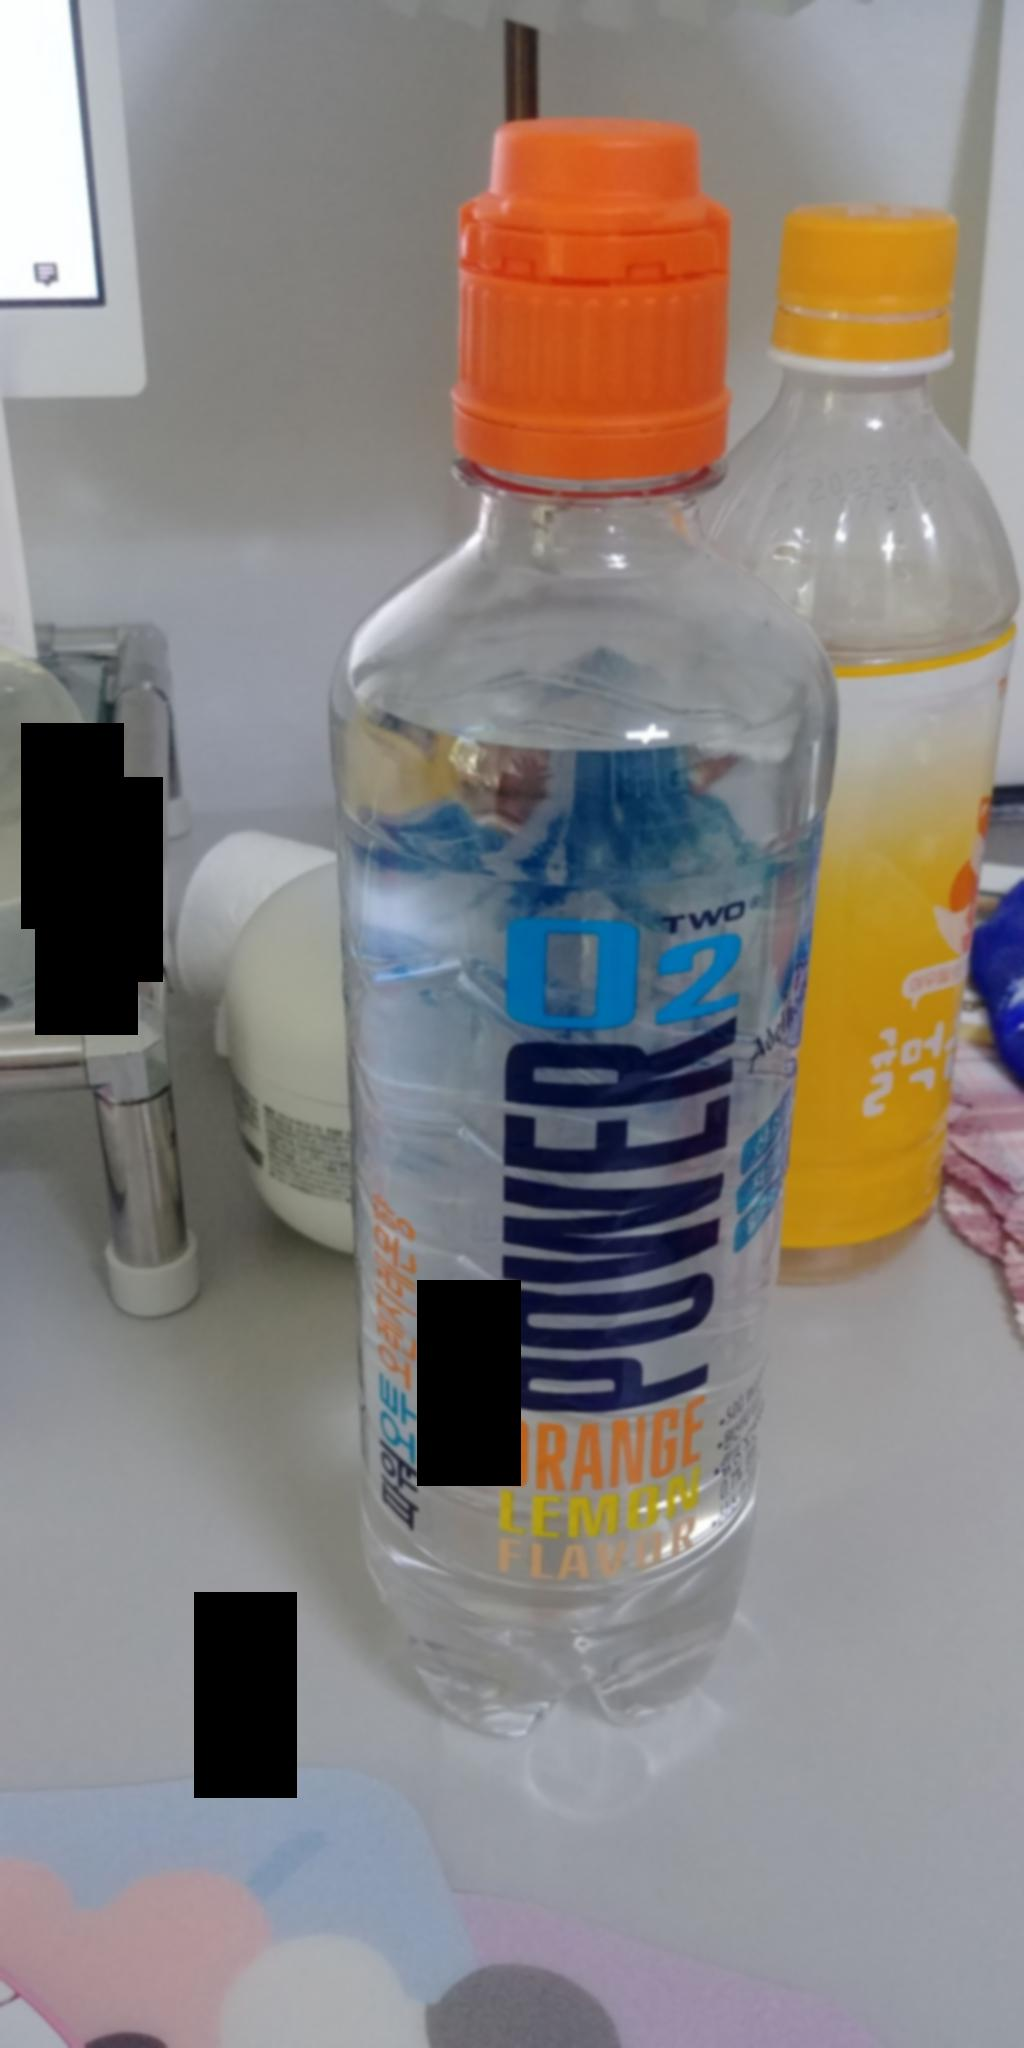powerO2_orange: (273, 78, 825, 1793)
